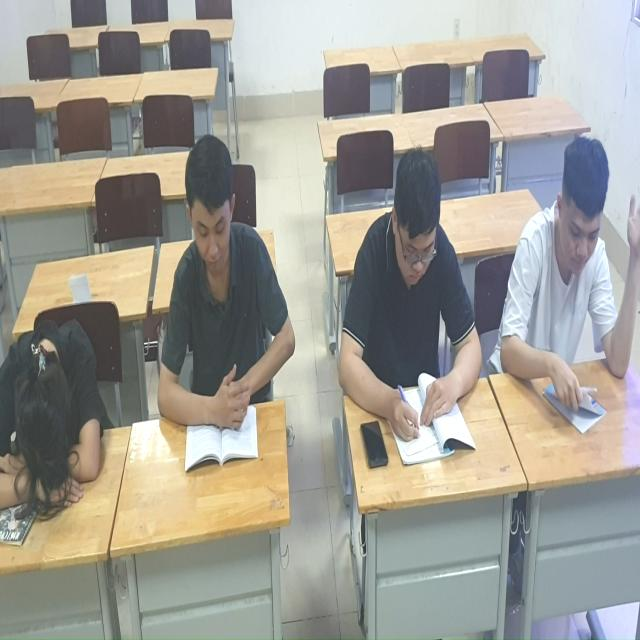raise_hand: (499, 137, 640, 451)
read: (334, 140, 491, 468), (154, 128, 298, 479)
sleep: (1, 295, 101, 524)
